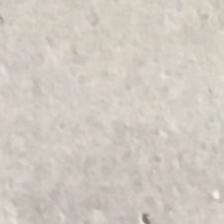Non_Crack: (18, 18, 194, 187)
